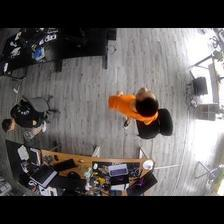normal: (2, 90, 58, 140), (106, 86, 164, 130)
